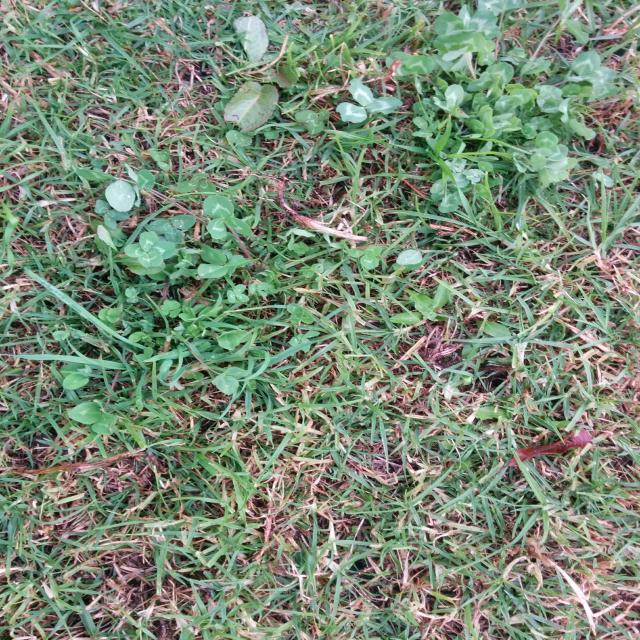Four Leaf Clover: (124, 231, 176, 267)
